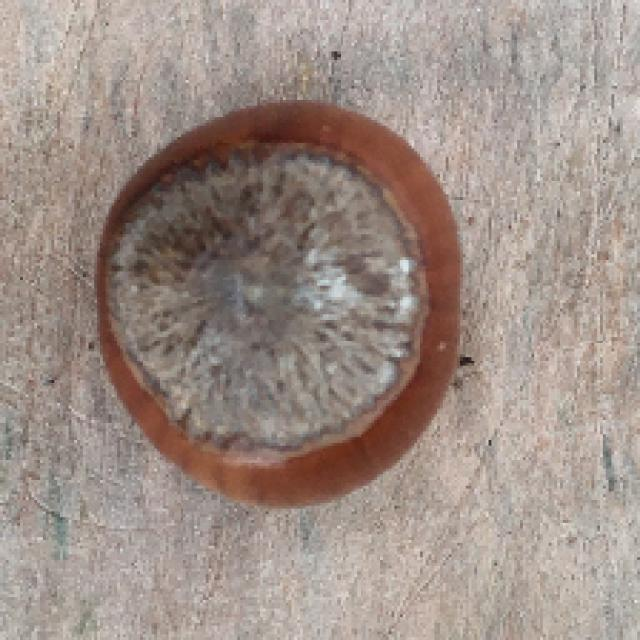damagedHazelnut: (87, 92, 468, 509)
